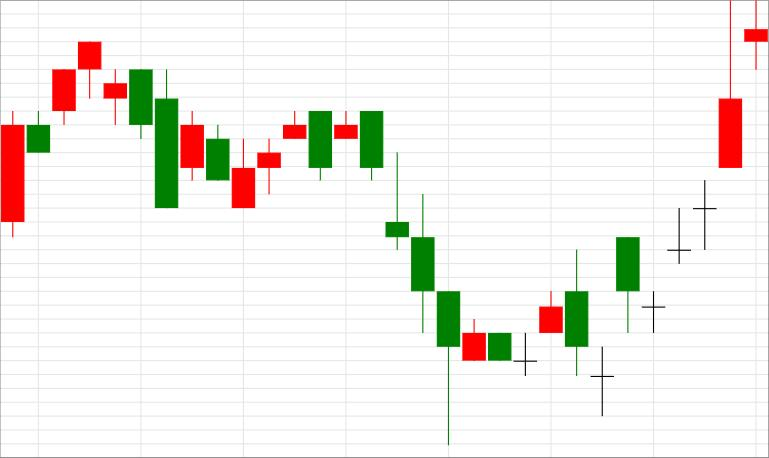hammer_rise: (334, 111, 460, 445)
